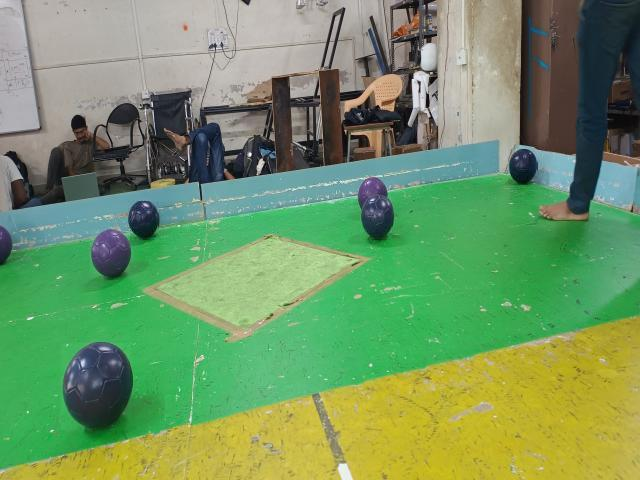jambhalya: (90, 230, 130, 278), (356, 178, 386, 210)
kaalyya: (62, 344, 131, 430), (360, 196, 392, 239), (128, 202, 158, 239), (508, 150, 537, 186)
